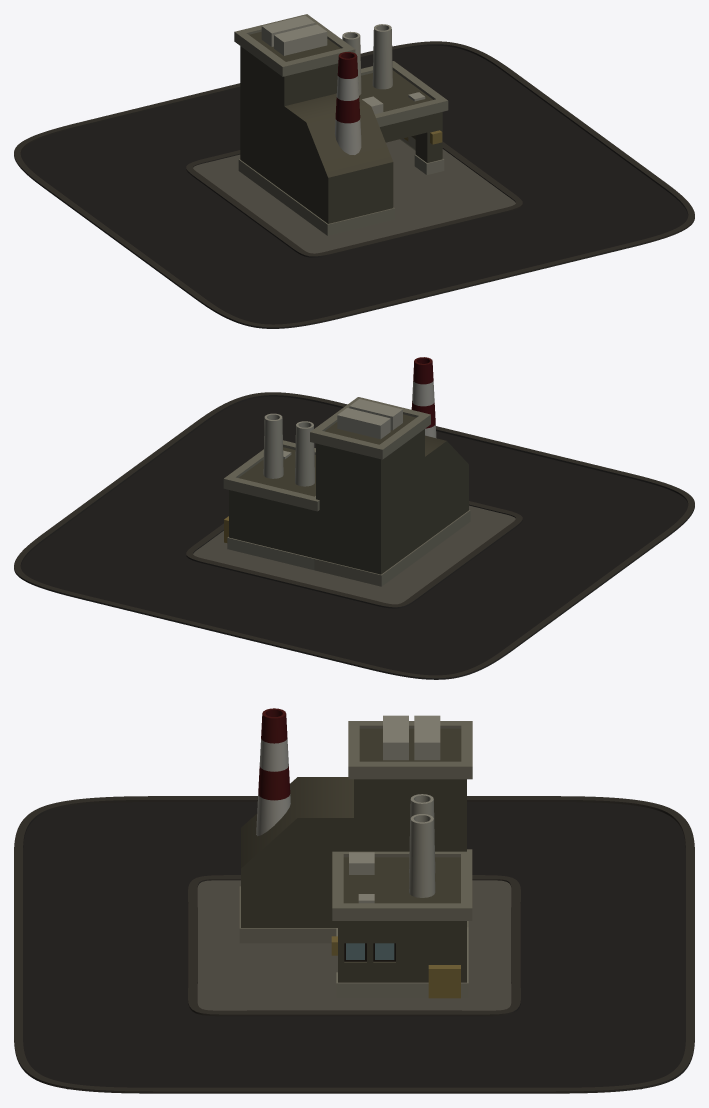
Rendered from env.fbx.
3 renders of one model, top to bottom at view 1: azimuth 30°, elevation 25°; view 2: azimuth 150°, elevation 25°; view 3: azimuth 270°, elevation 25°, orthographic. The views are drawn at different scales.
Visible parts, largest first — view 1: factory_evn_a01; view 2: factory_evn_a01; view 3: factory_evn_a01.
Boxes of the visible parts, <box> form: factory_evn_a01: <box>14,14,694,328</box>; factory_evn_a01: <box>14,357,694,679</box>; factory_evn_a01: <box>14,708,694,1093</box>.
Bounding box in the file's own units: 21.66 × 7.17 × 21.1.
